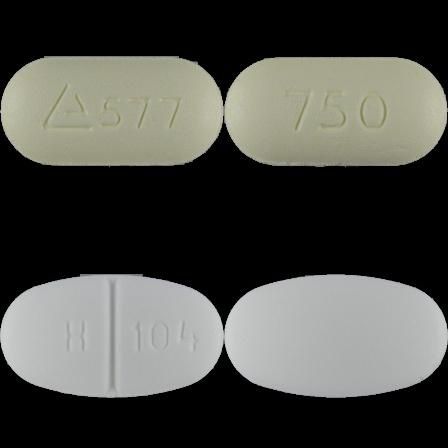51655-562: (0, 0, 224, 224)
